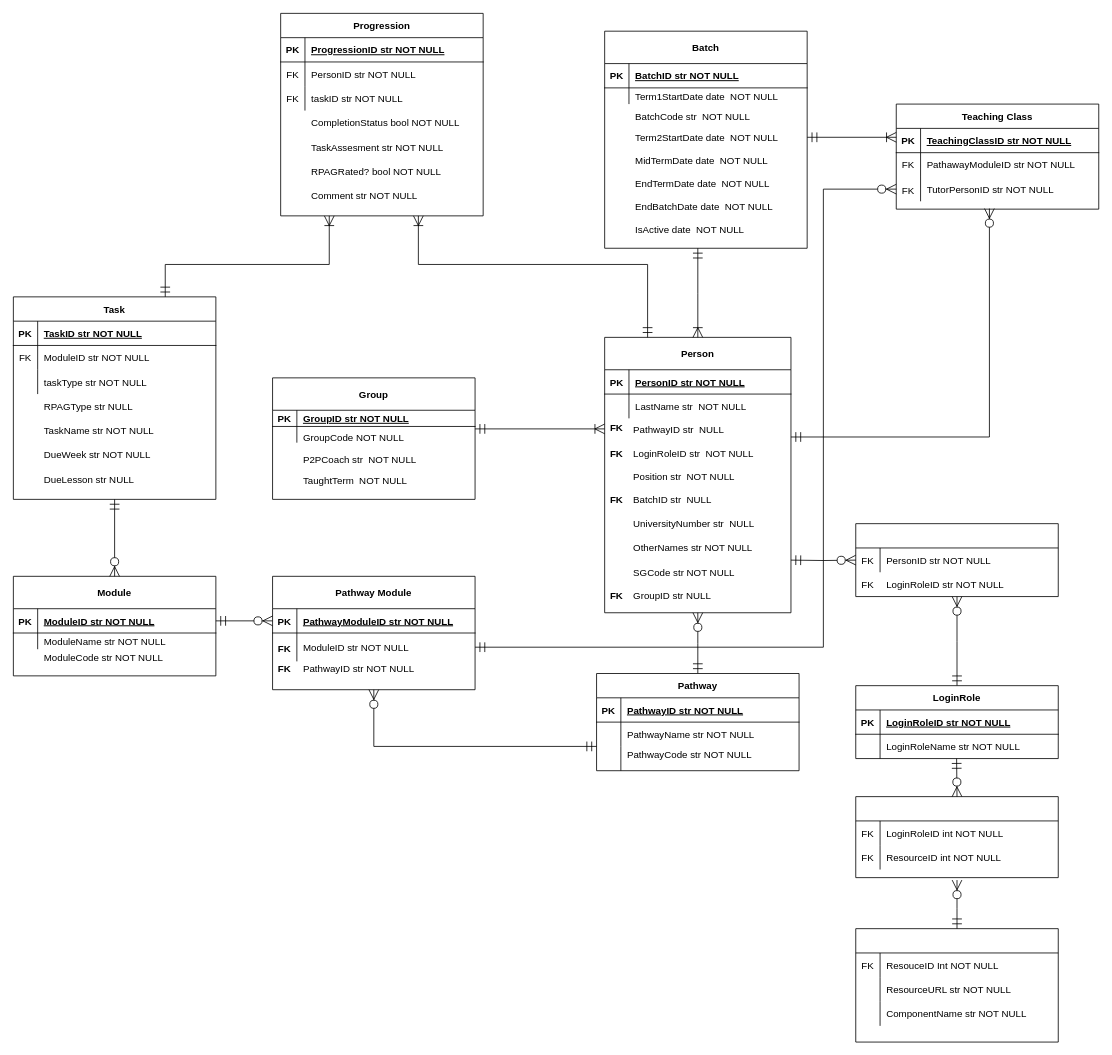
This 1112x1055 diagram has some shape labels left out. The shapes that lost their labels are listed below. From the top down, each one's box as (x1, y1, x2, y2) in pixels, then its label:
(855, 523, 1058, 597): People Role
(855, 796, 1058, 878): ResourceRoles
(855, 928, 1058, 1042): Resources
